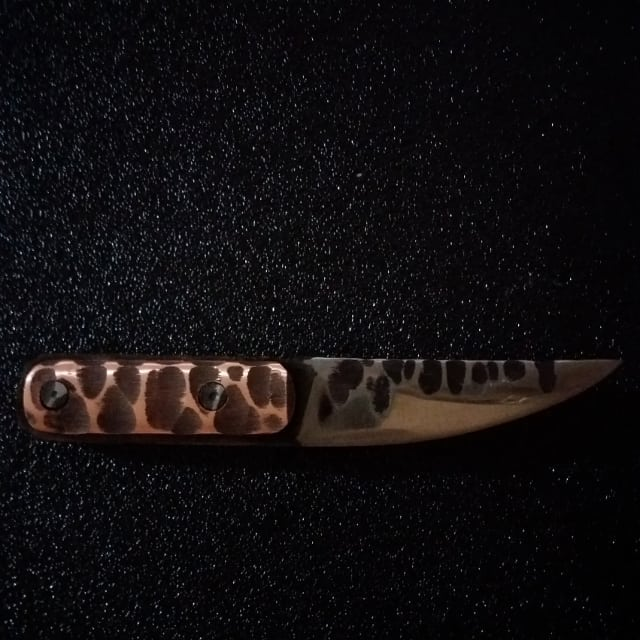knife: (20, 355, 624, 444)
